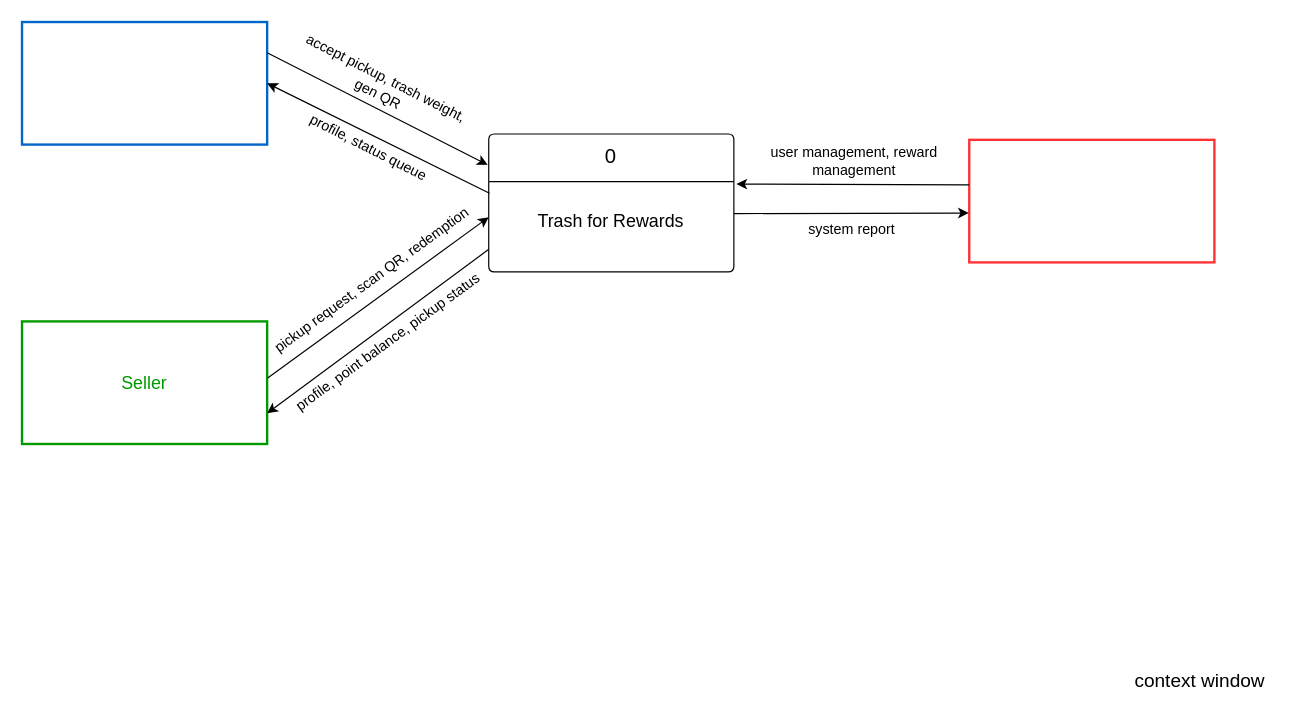
Some shapes in this 1303 by 718 pixel diagram are drawn without their labels. Each missing label, with the centre of its shape:
"Admin" goes at (x=1091, y=200).
"Buyer" goes at (x=144, y=82).
